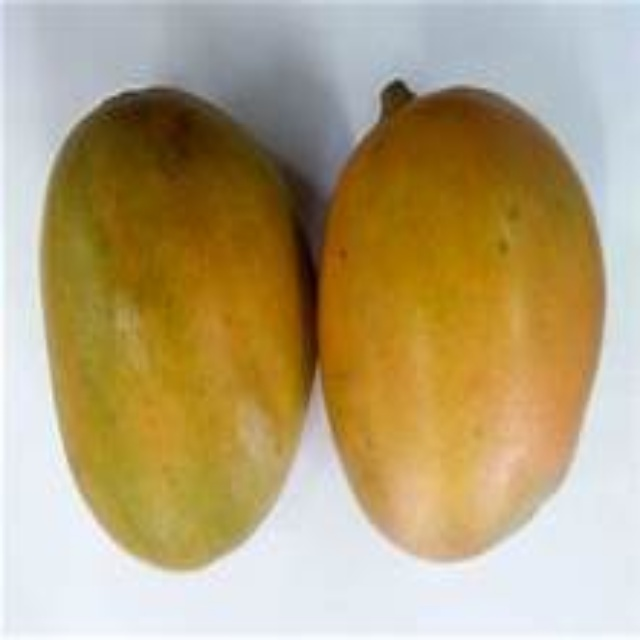mango: (323, 83, 604, 567), (40, 84, 314, 577)
